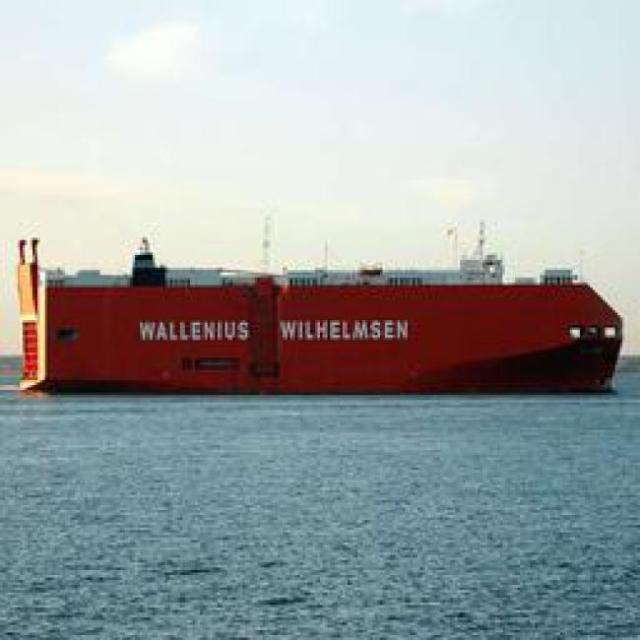boat: (2, 229, 624, 405)
